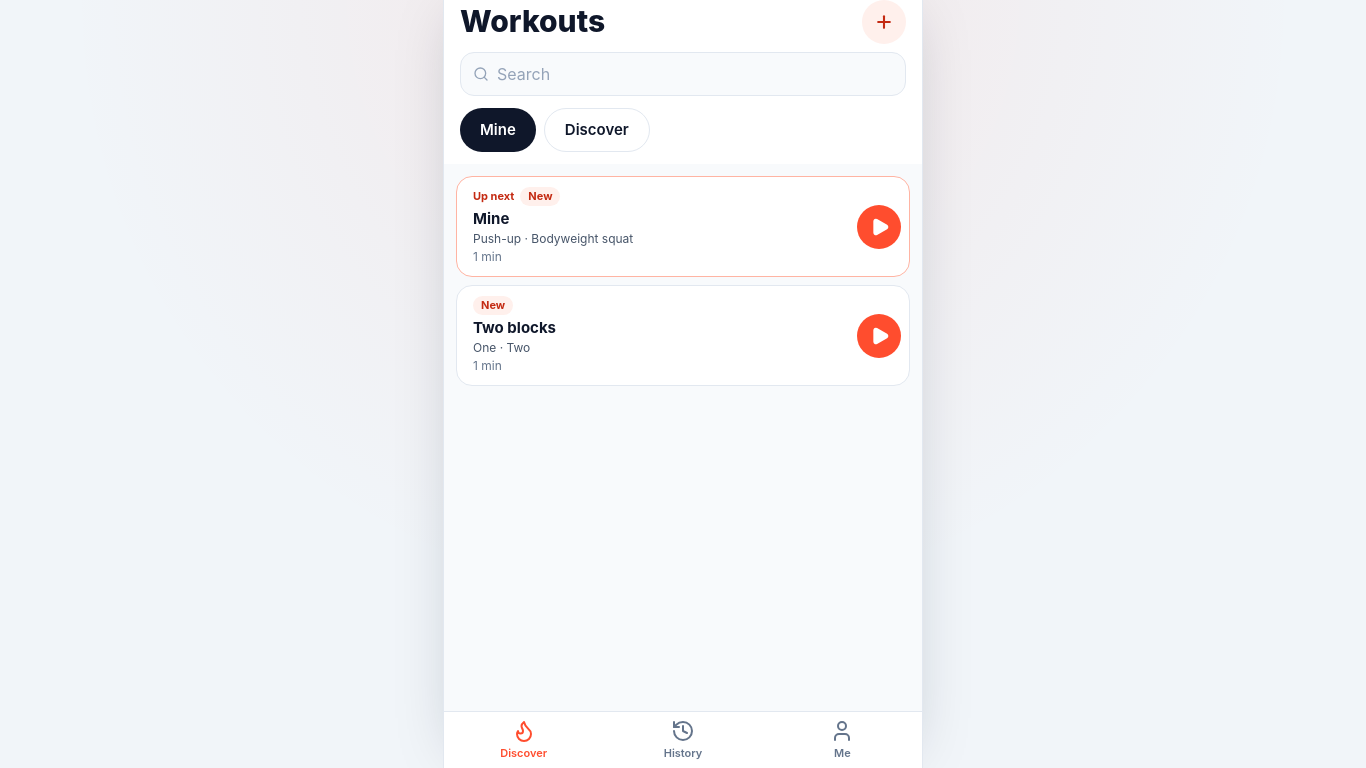
it: where a session was started from › rides on the row the timer logs
Click the button "Mine Up next New Push-up · Bodyweight squat 1 min" at {"x": 491, "y": 218}, box top-left (457, 177), bottom-right (849, 276)
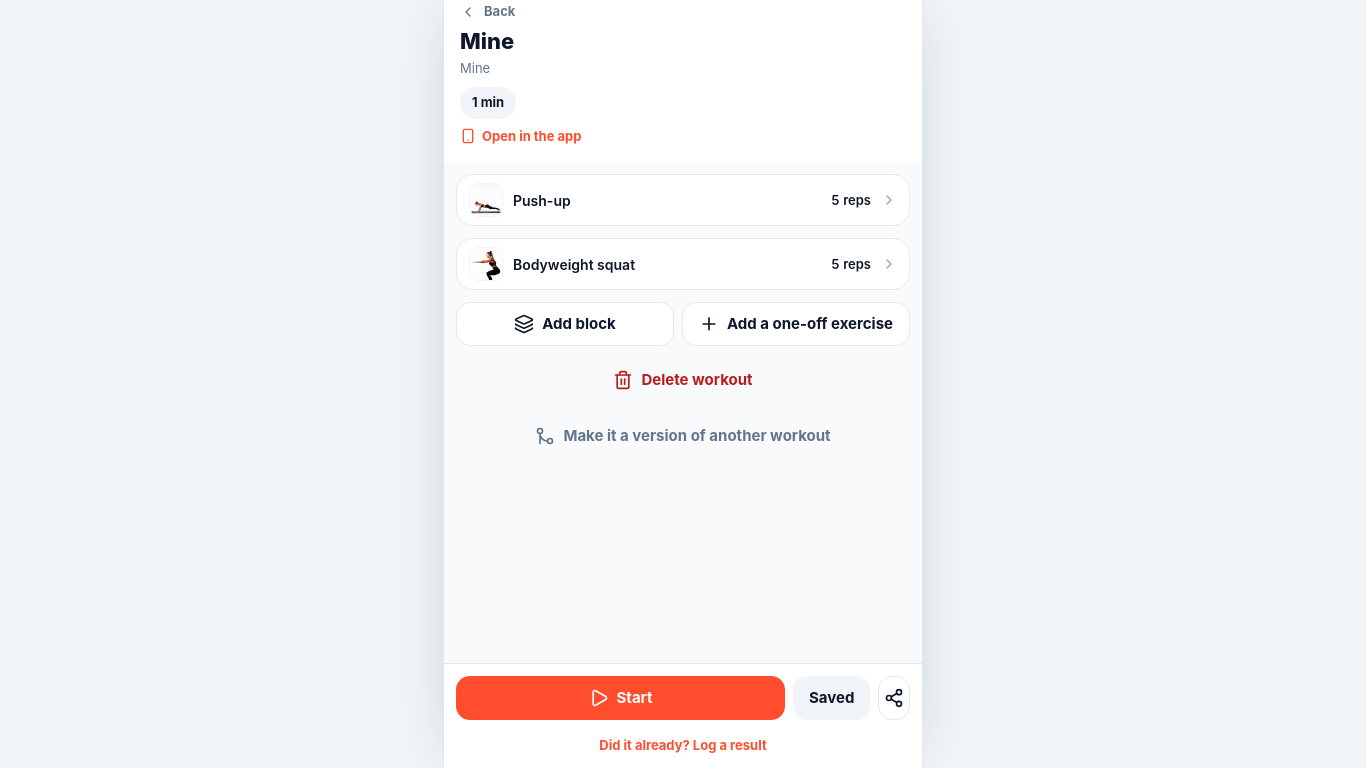
Click the button "Start" at {"x": 620, "y": 698}, box top-left (456, 676), bottom-right (785, 720)
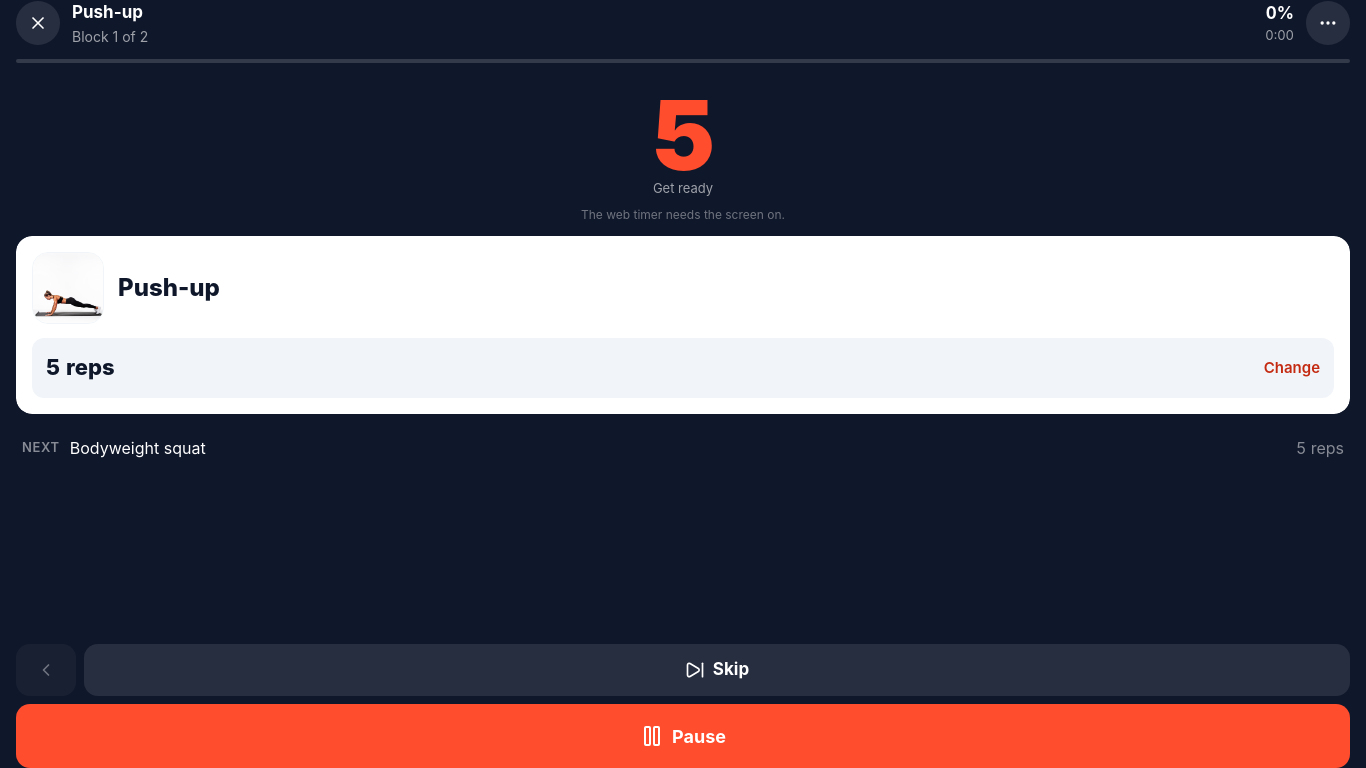
Click the button "Skip" at {"x": 717, "y": 670}, box top-left (84, 644), bottom-right (1350, 696)
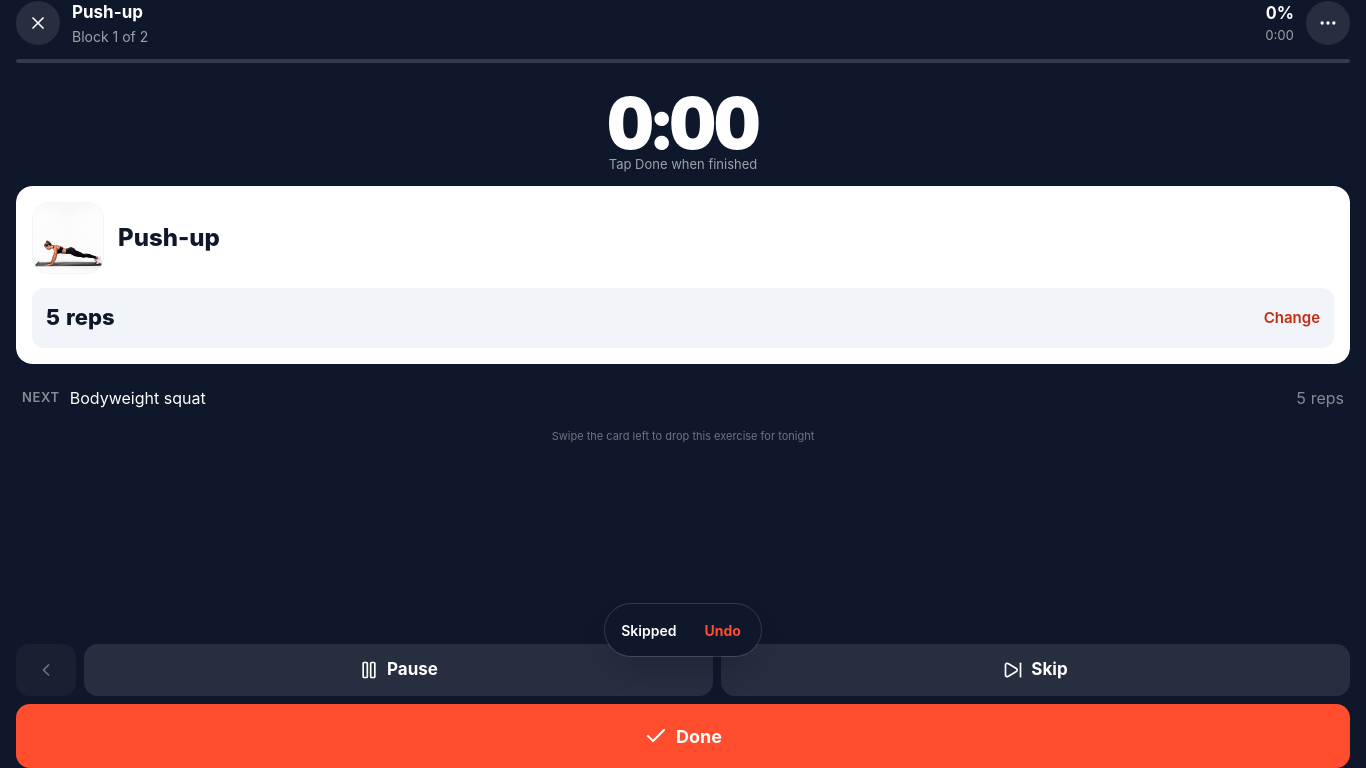
Click the button named "More" at {"x": 1328, "y": 23}, box top-left (1306, 1), bottom-right (1350, 45)
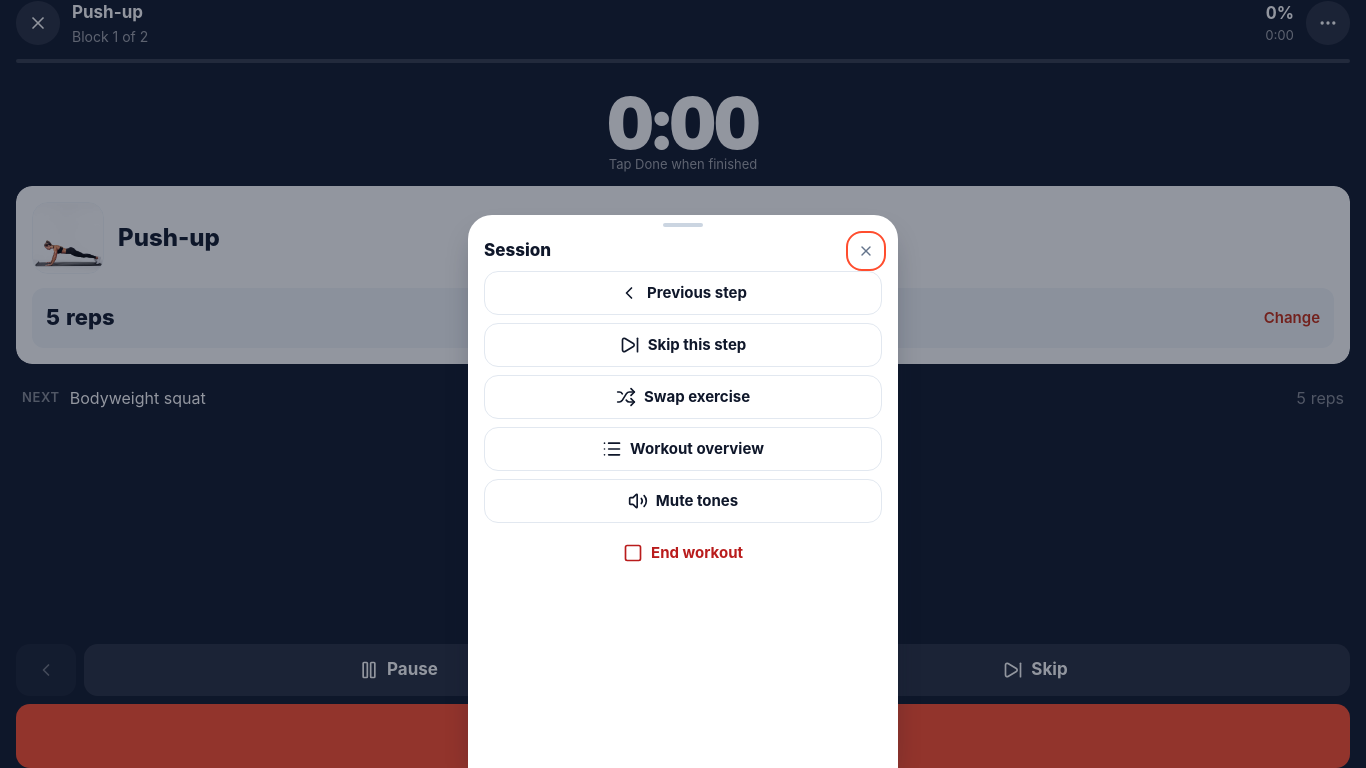
Click the button "End workout" at {"x": 683, "y": 553}, box top-left (484, 531), bottom-right (882, 575)
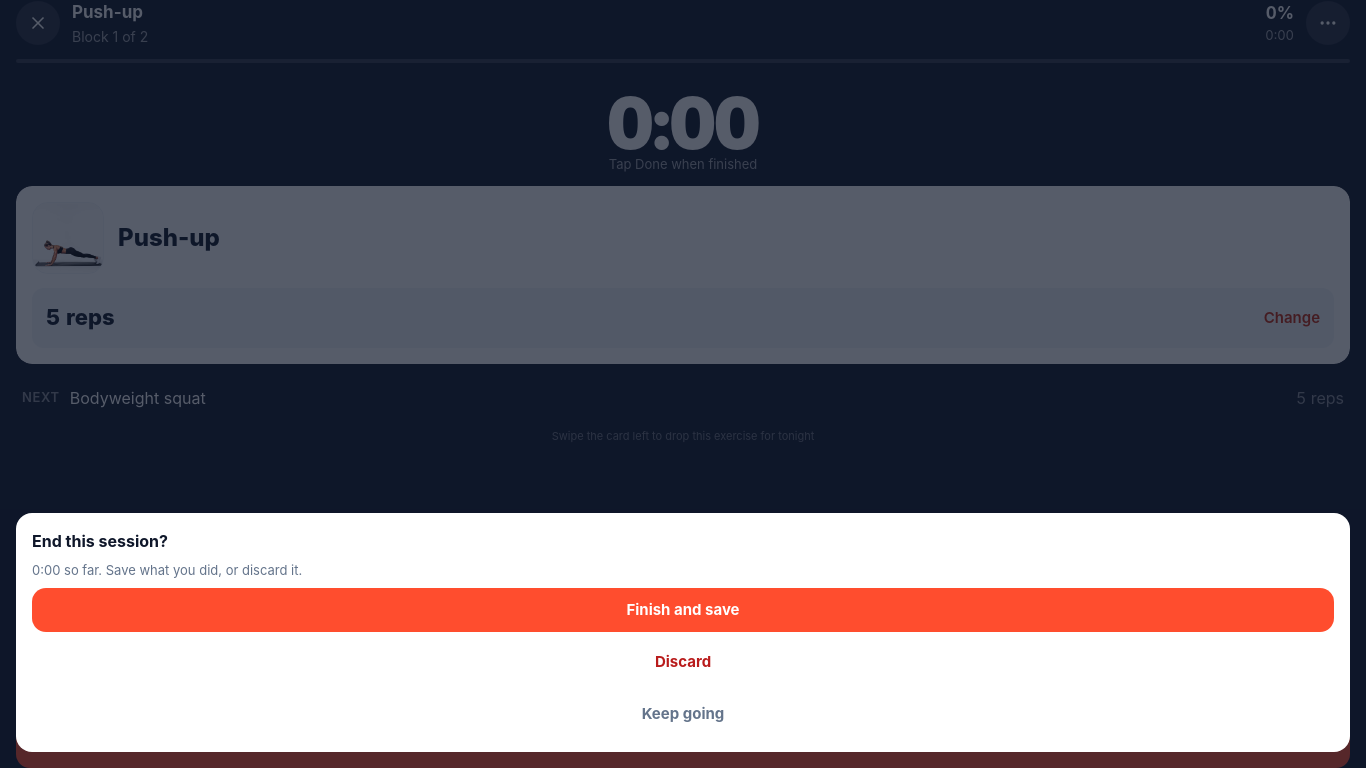
Click the button "Finish and save" at {"x": 683, "y": 610}, box top-left (32, 588), bottom-right (1334, 632)
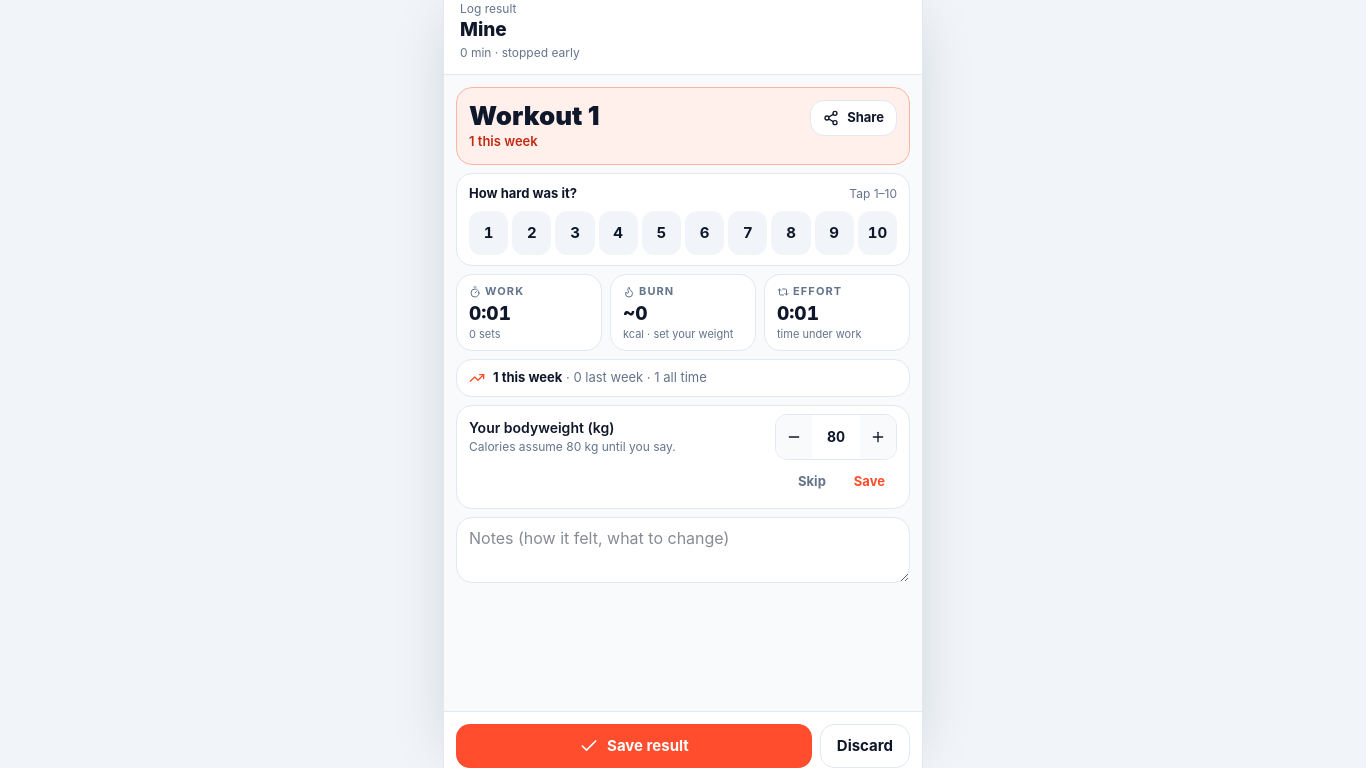
Expected: the button "Save result" is shown, top-left (456, 724), bottom-right (812, 767)
